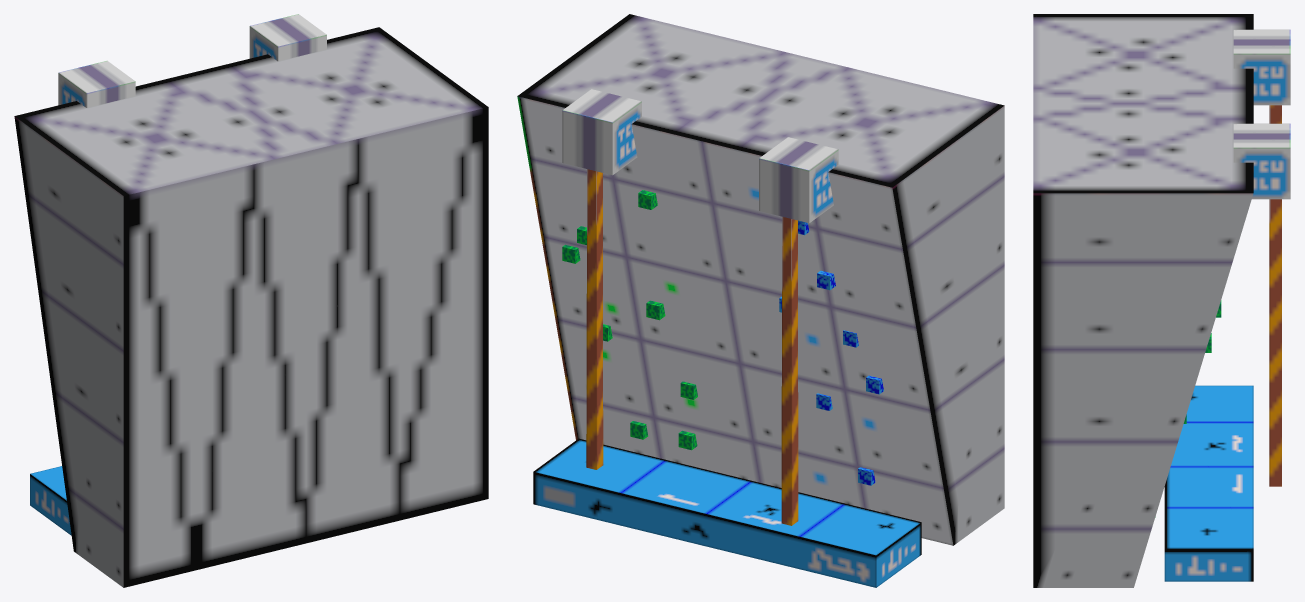
Rendered from wall3.obj.
3 renders of one model, left to right at view 1: azimuth 30°, elevation 25°; view 2: azimuth 150°, elevation 25°; view 3: azimuth 270°, elevation 25°, orthographic. The views are drawn at different scales.
Visible parts, largest first — view 1: wall3; view 2: wall3; view 3: wall3.
Part boxes in pixels (x1,y1,x2,y2): wall3: [14, 14, 488, 587]; wall3: [517, 14, 1004, 587]; wall3: [1033, 14, 1290, 587].
Bounding box in the file's own units: 4.77 × 5.1 × 2.89.
Materials: 1 (1 with a texture image).
